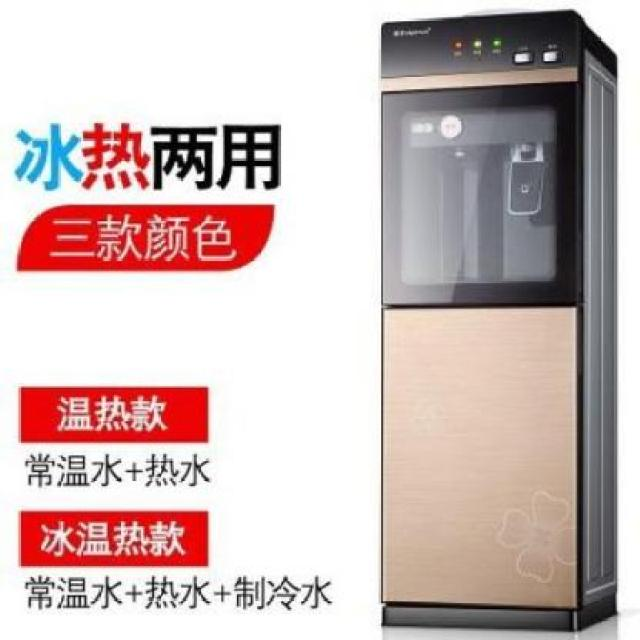cooler: (378, 5, 622, 632)
